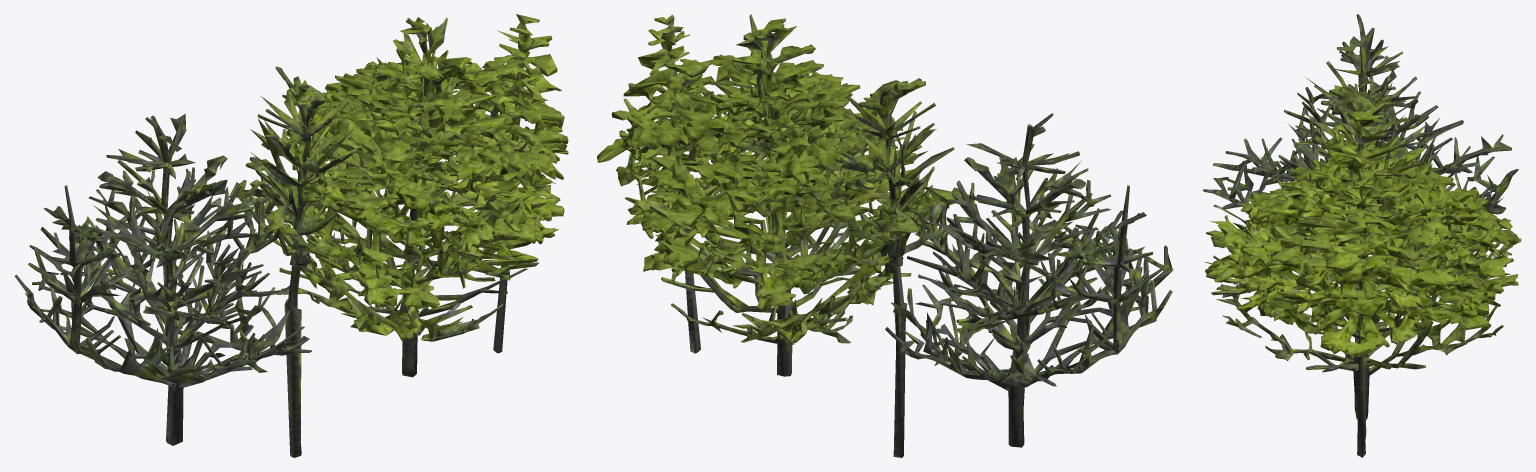
Rendered from alpine-spruce.glb.
The picture shows the model from 3 angles, left to right: view 1: azimuth 30°, elevation 25°; view 2: azimuth 150°, elevation 25°; view 3: azimuth 270°, elevation 25°; orthographic projection. The views are drawn at different scales.
Visible parts, largest first — view 1: geometry_0; view 2: geometry_0; view 3: geometry_0.
Boxes of the visible parts, x1,y1,x2,y2 form: geometry_0: (14,14,568,457); geometry_0: (597,14,1173,457); geometry_0: (1203,14,1521,457).
Bounding box in the file's own units: 15.58 × 11.98 × 9.62.
1 material, 1 textured.
